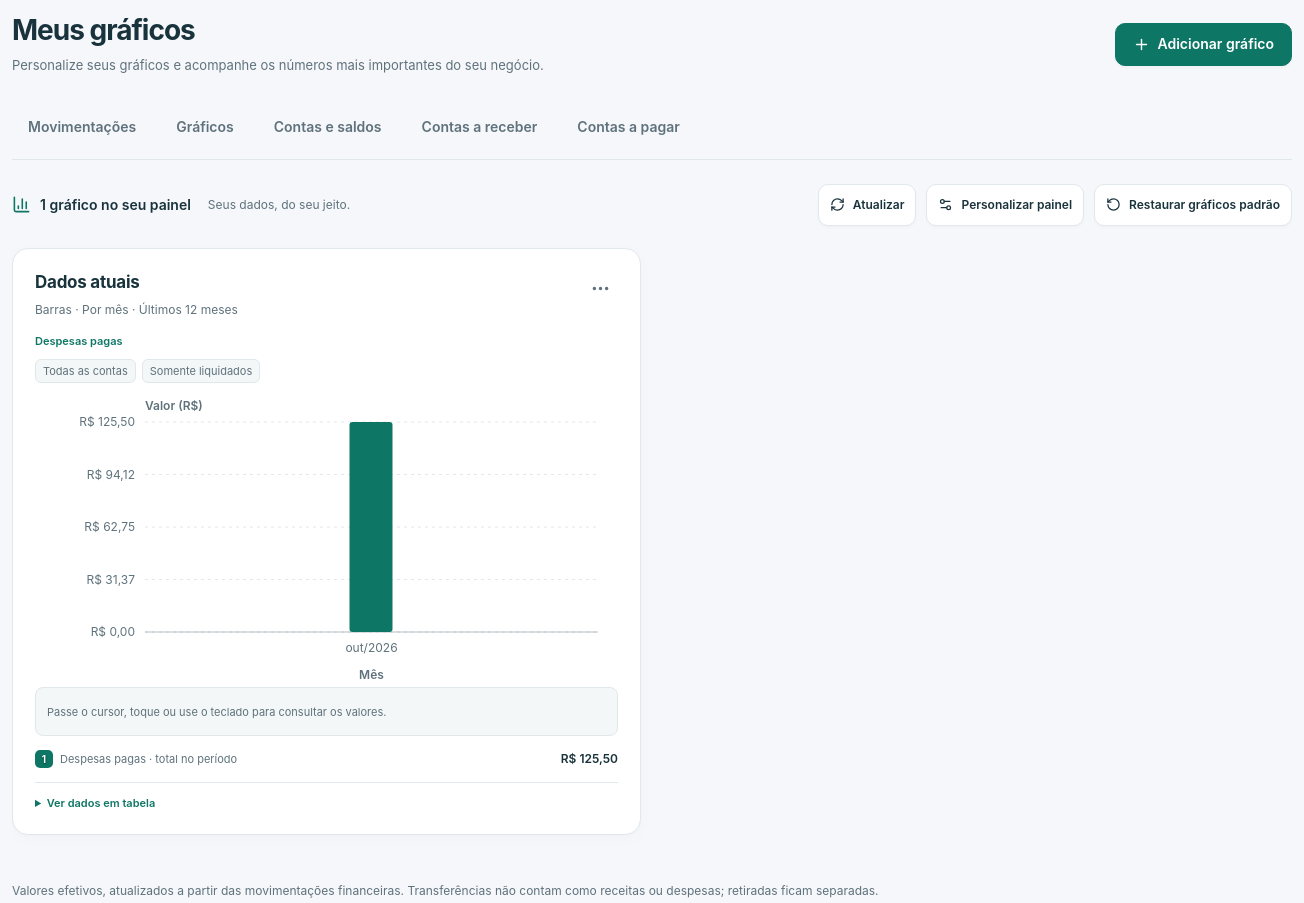
Test: saved chart panel › updates values using the refresh action and shows query errors without invented data
Expected: the element "Dados atuais" is shown, [12, 248, 641, 835]
Click the button with aria-label "Atualizar dados dos gráficos". click: [867, 205]
box: [818, 184, 916, 226]
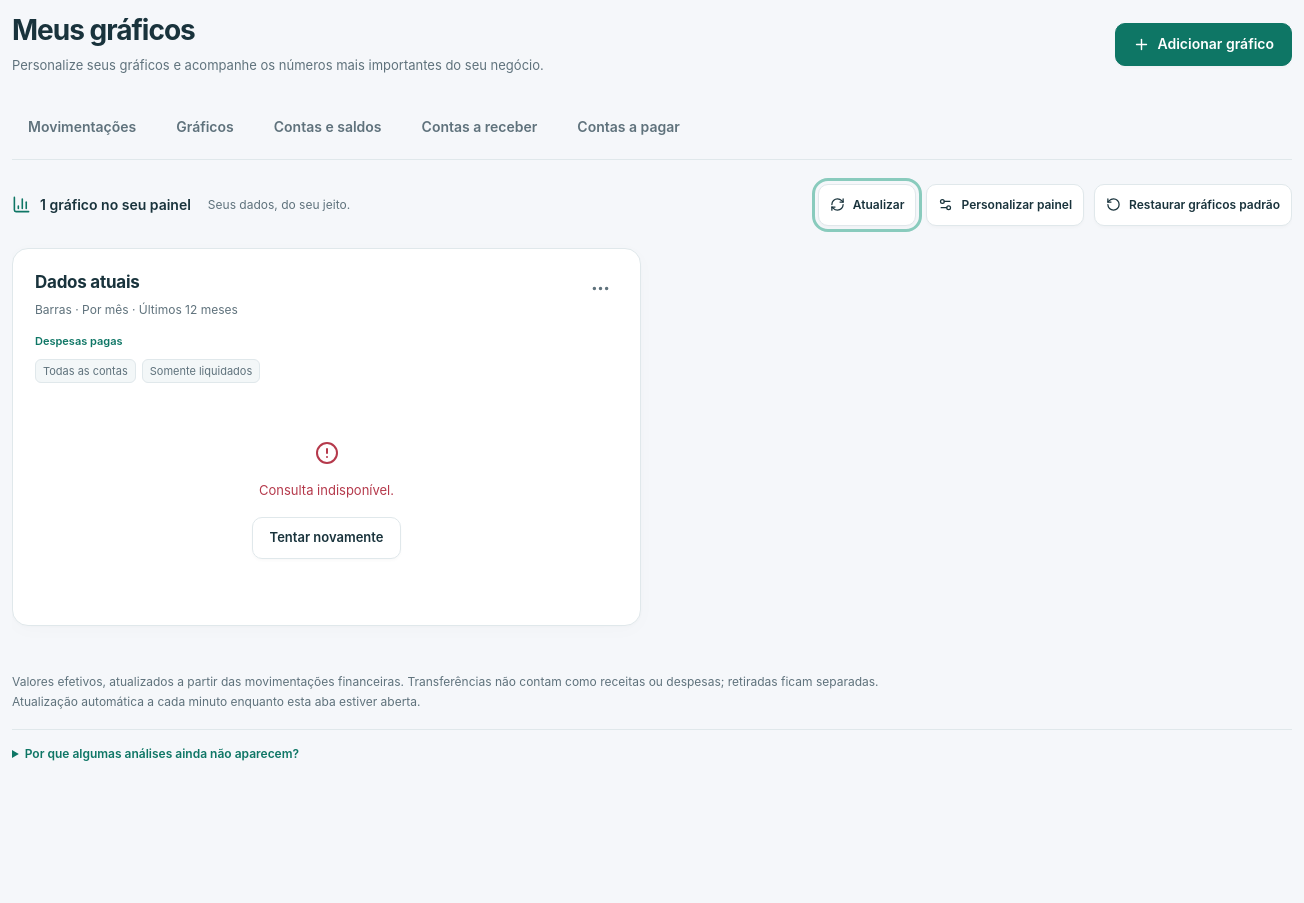
Expected: the message shows "Consulta indisponível.", [259, 482, 394, 498]
